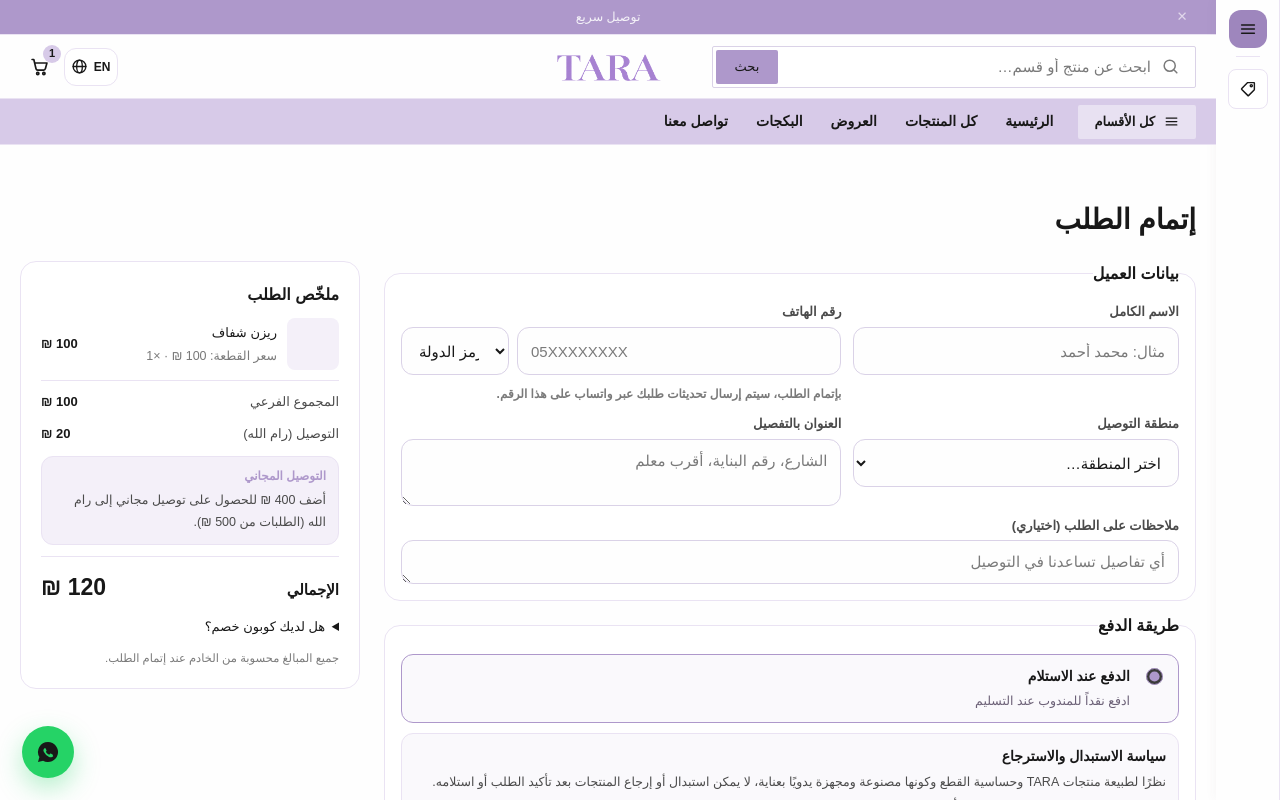
Test: public storefront › submits a valid checkout and moves to the confirmation route
The image size is (1280, 800).
Type "سارة أحمد" into the field with placeholder "مثال: محمد أحمد" at (1016, 351), box [854,327,1179,375]
Select "+970" in the dropdown named "رمز الدولة" at (455, 351), box [401,327,509,375]
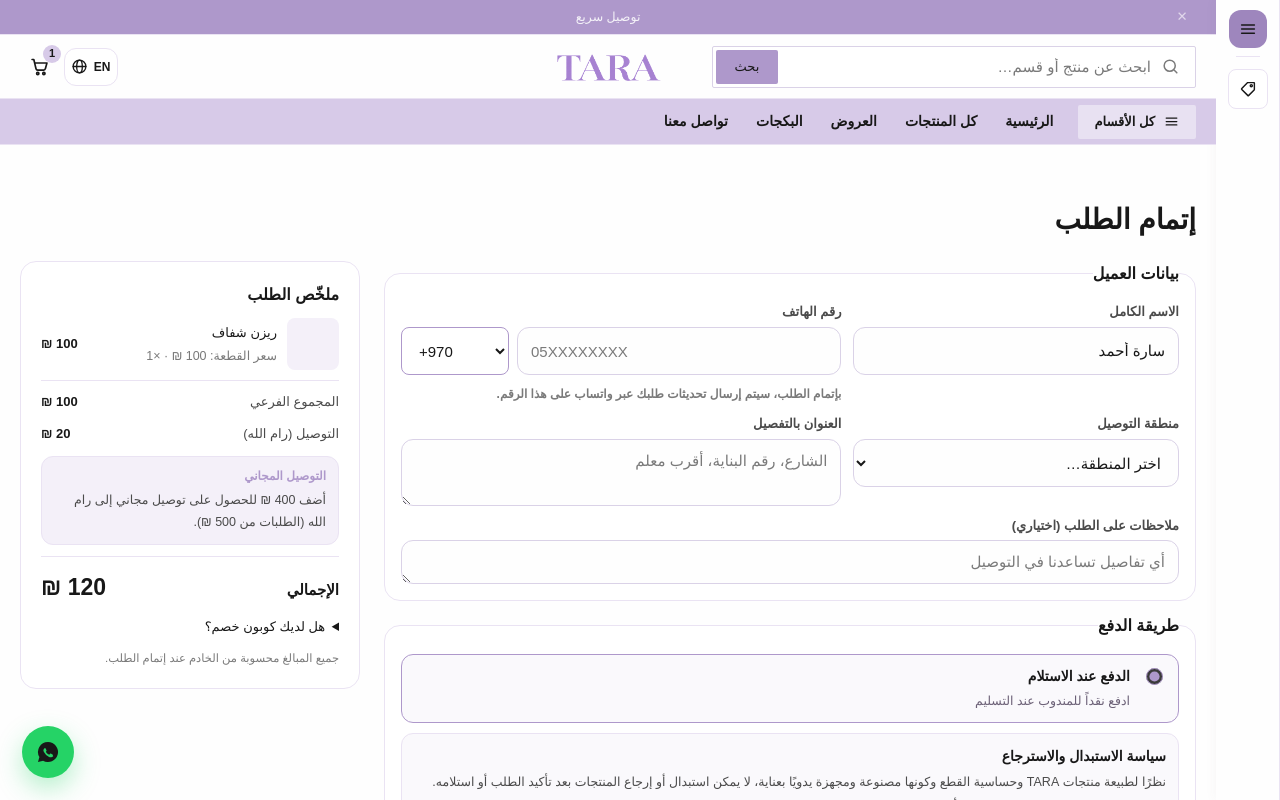
Type "0591234567" into the field with placeholder "05XXXXXXXX" at (679, 351), box [517,327,842,375]
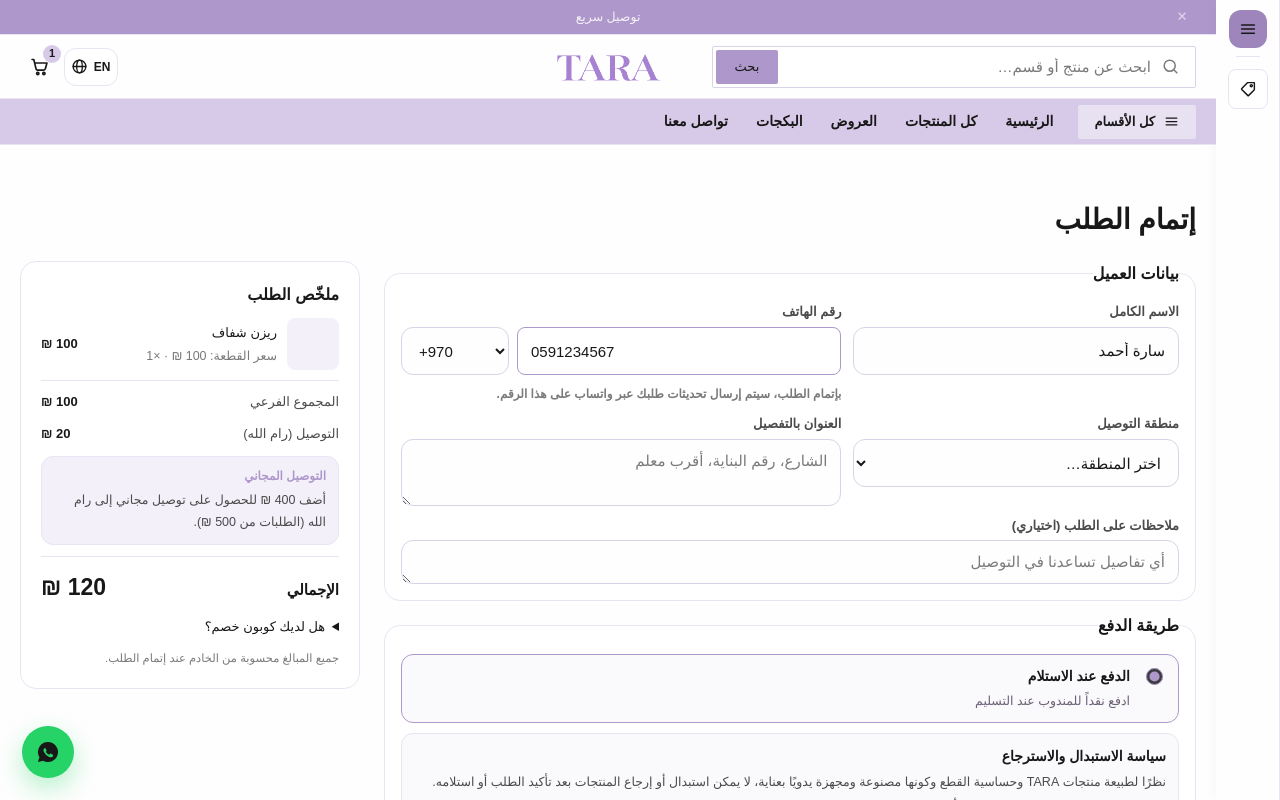
Type "رام الله، شارع الإرسال" into the text box with placeholder "الشارع، رقم البناية، أقرب معلم" at (621, 472), box [401,439,842,506]
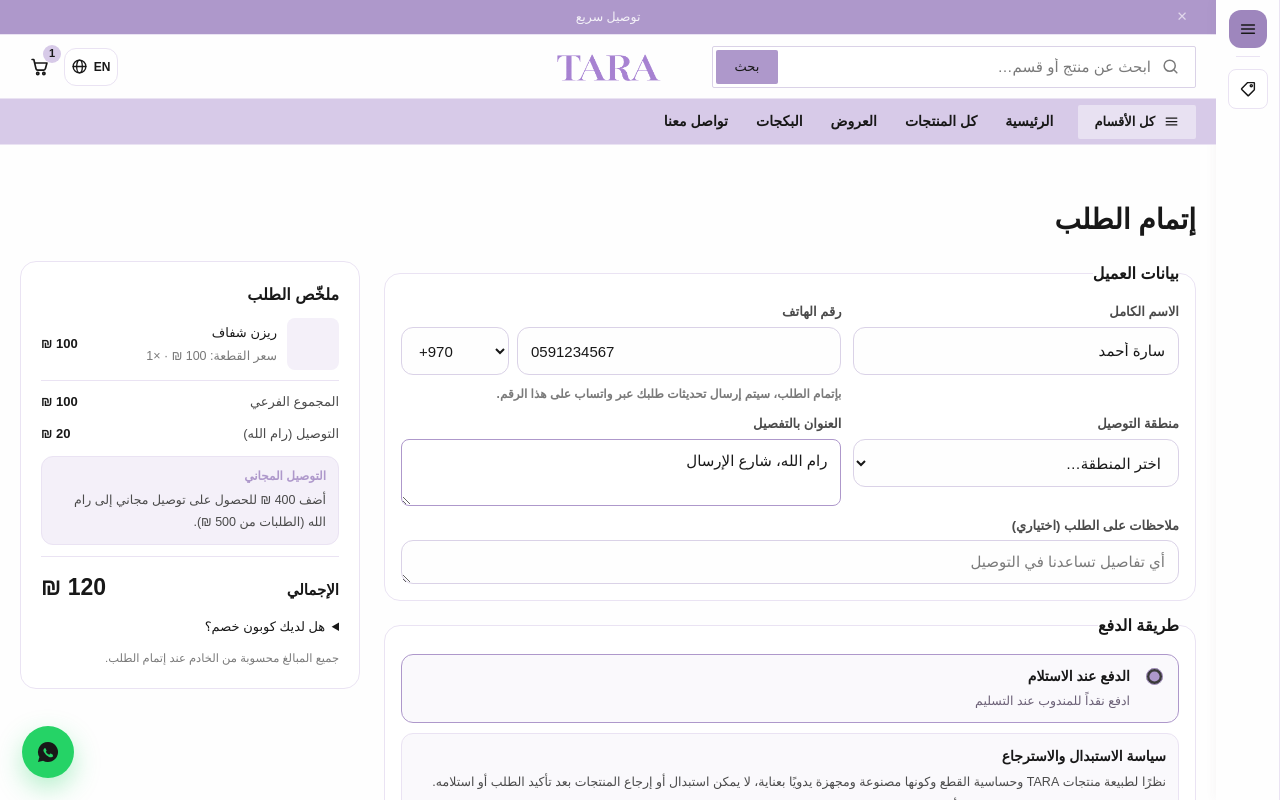
Addressed by its own label: the header search field is also a combobox.
Select "رام الله — 20 ₪ · يومان" in the dropdown labelled "منطقة التوصيل" at (1016, 463), box [854,439,1179,487]
(page scrolled)
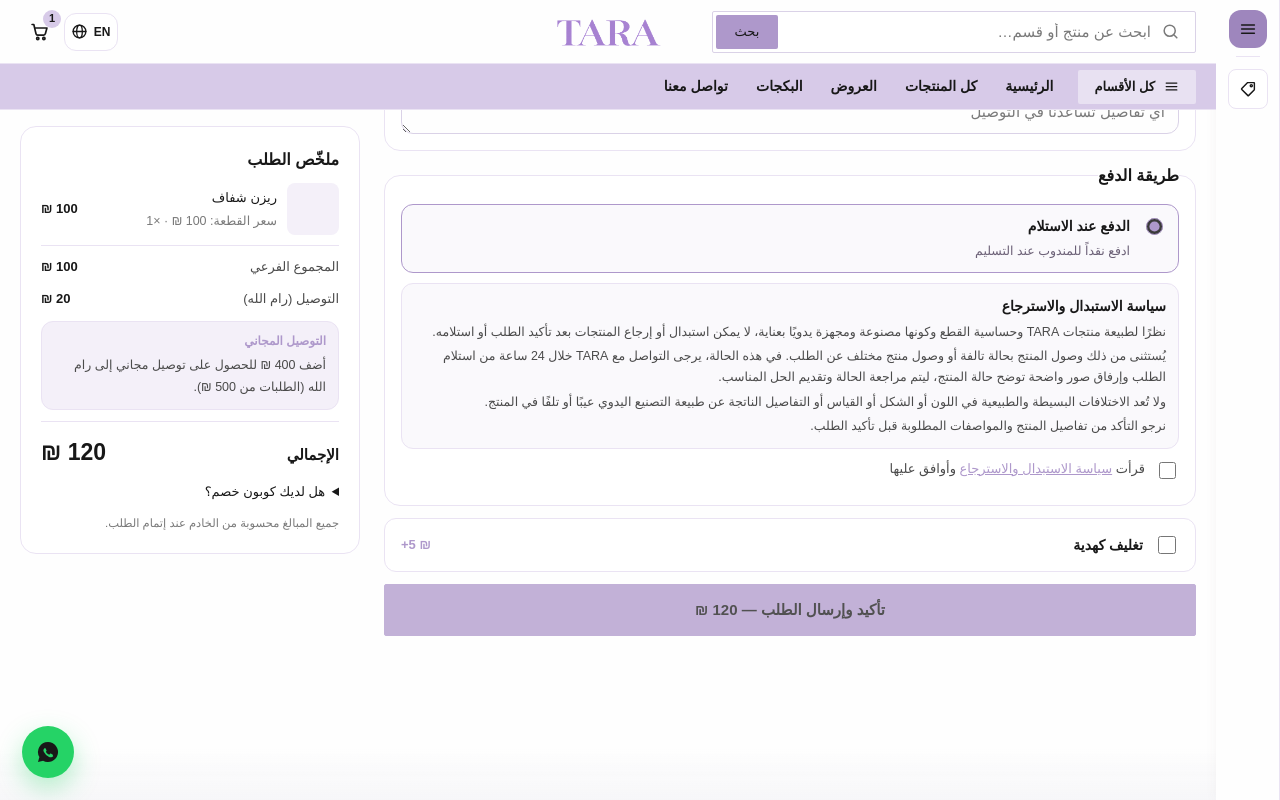
Click the checkbox labelled "قرأت سياسة الاستبدال والاسترجاع وأوافق عليها" at (1168, 470), box [1159,462,1176,479]
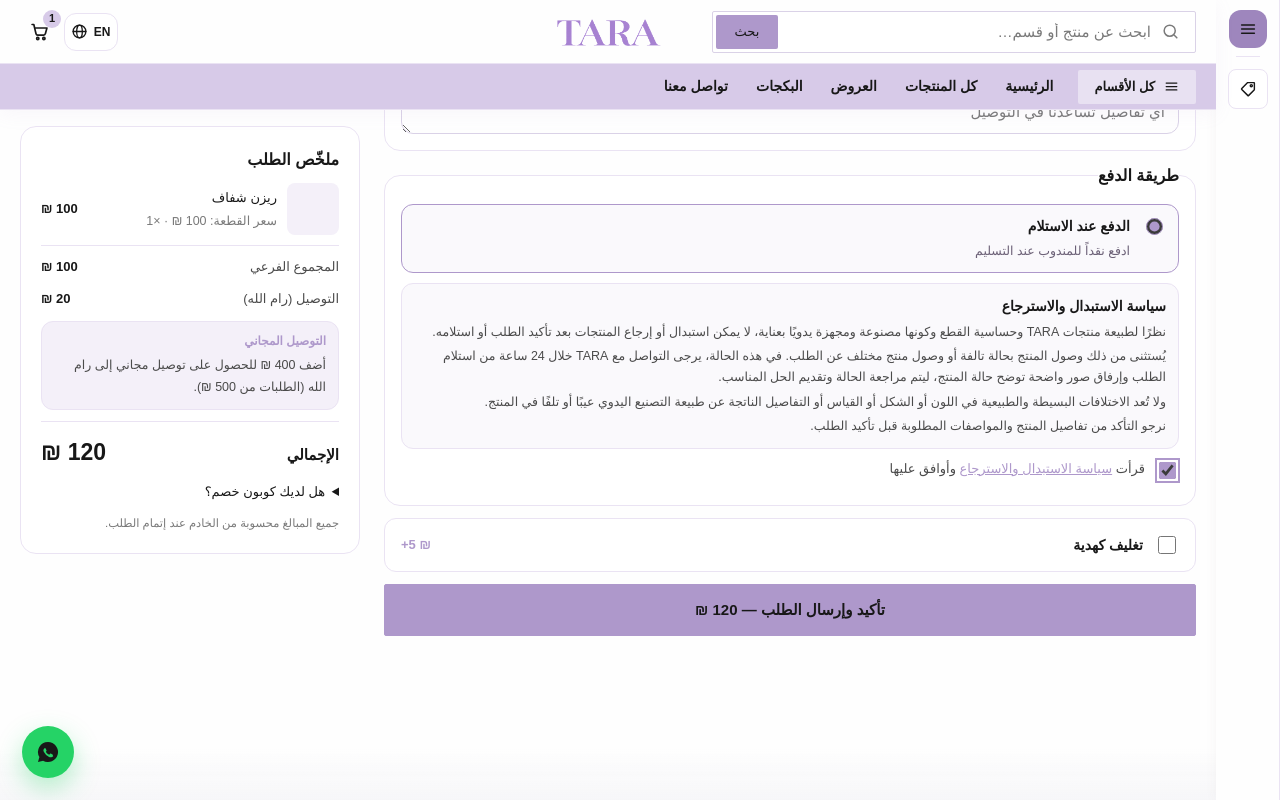
Click the button "تأكيد وإرسال الطلب — 120 ₪" at (790, 610), box [384,584,1196,636]
(page scrolled)
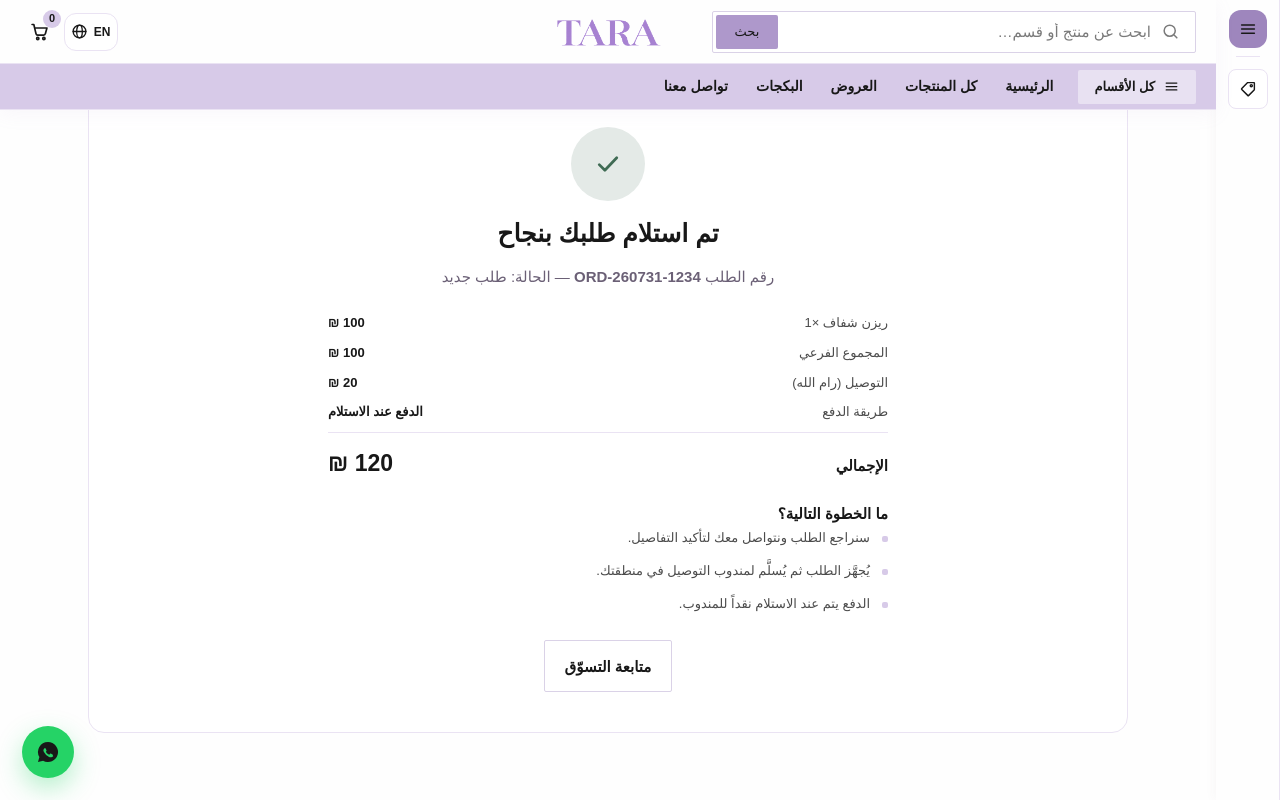
Check: the heading "تم استلام طلبك بنجاح" is shown, box [497,213,719,253]
Check: the text "ORD-260731-1234" is shown, box [574,268,701,285]
